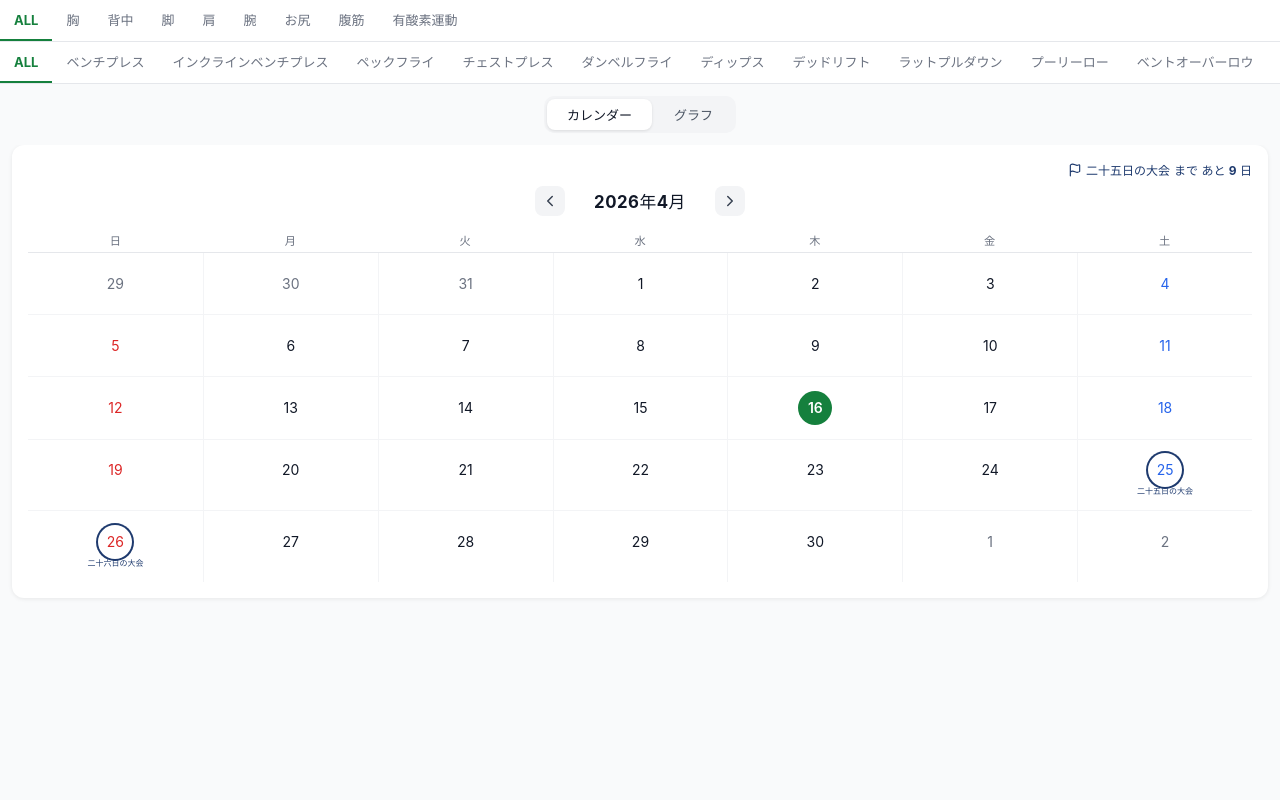
Test: HistoryPage — 日付を押したとき › その日の大会だけをポップアップに出す（別の日の大会は出さない）
Click the button "25 二十五日の大会" at (1165, 474), box left=1077, top=439, right=1252, bottom=510
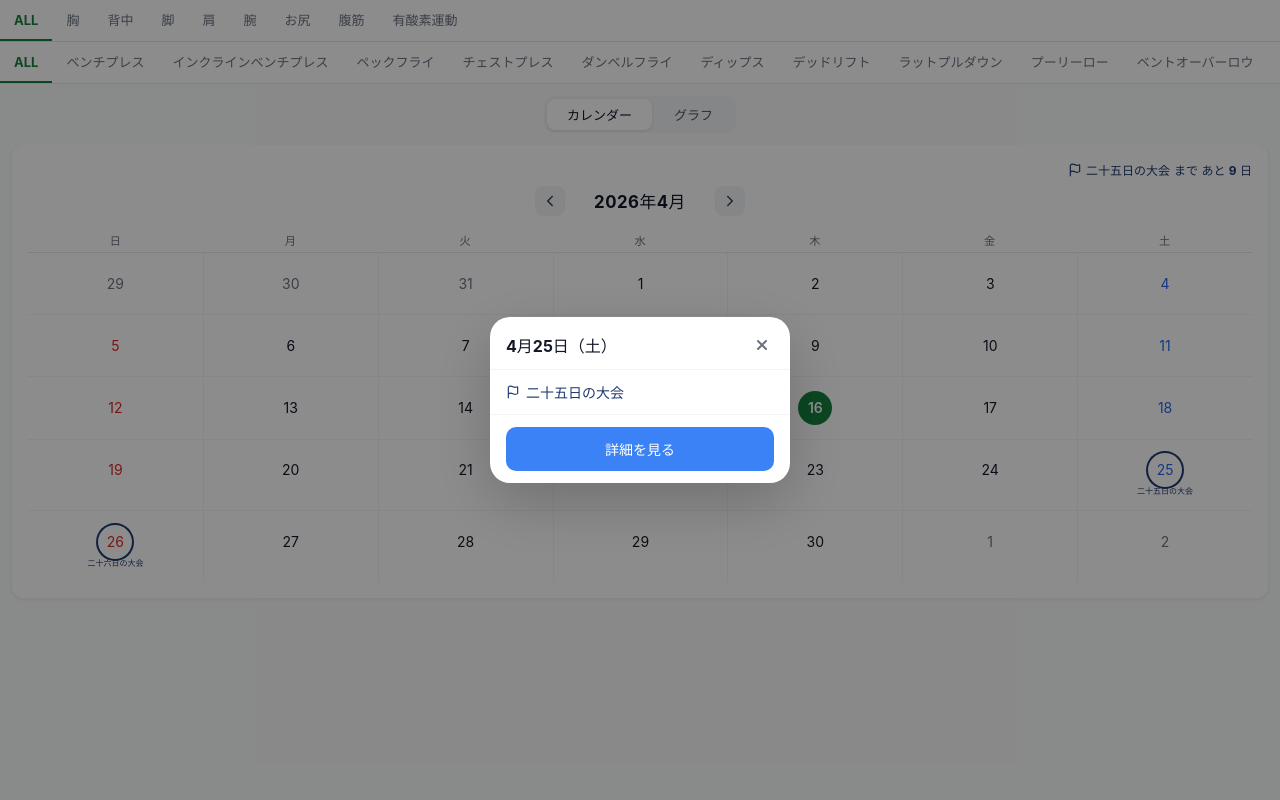
Now the text "二十五日の大会" is shown, box left=526, top=382, right=624, bottom=402
